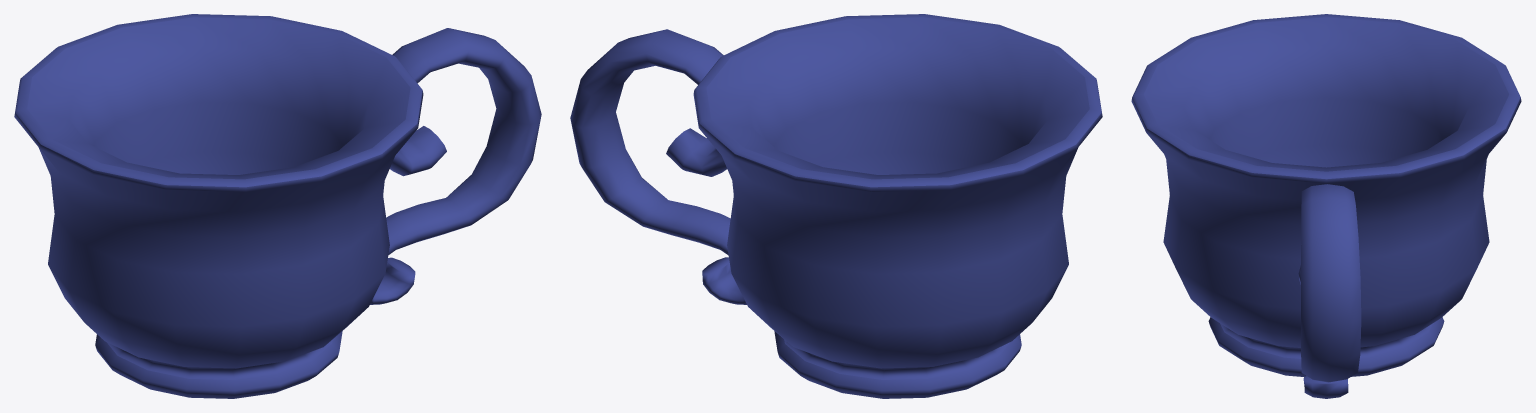
File: Mug3.fbx
3 views of the same model, side by side, from view 1: azimuth 30°, elevation 25°; view 2: azimuth 150°, elevation 25°; view 3: azimuth 270°, elevation 25° (orthographic). The views are drawn at different scales.
Parts seen in each view (by area): view 1: tasse1; view 2: tasse1; view 3: tasse1.
Boxes of the visible parts, box(x1,y1,x2,y2) form: tasse1: box(14, 14, 541, 398); tasse1: box(570, 14, 1102, 398); tasse1: box(1131, 14, 1521, 398).
Bounding box in the file's own units: 21.99 × 11.05 × 15.81.
